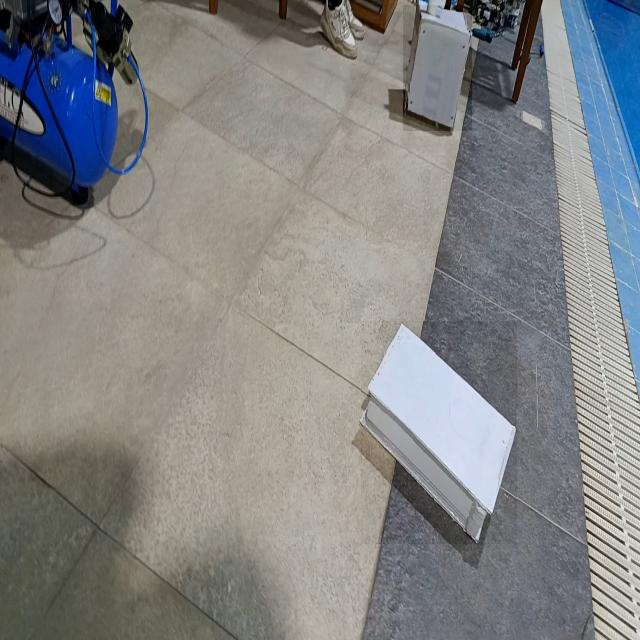Cube: (403, 5, 472, 131)
Cuboid: (362, 321, 518, 544)
